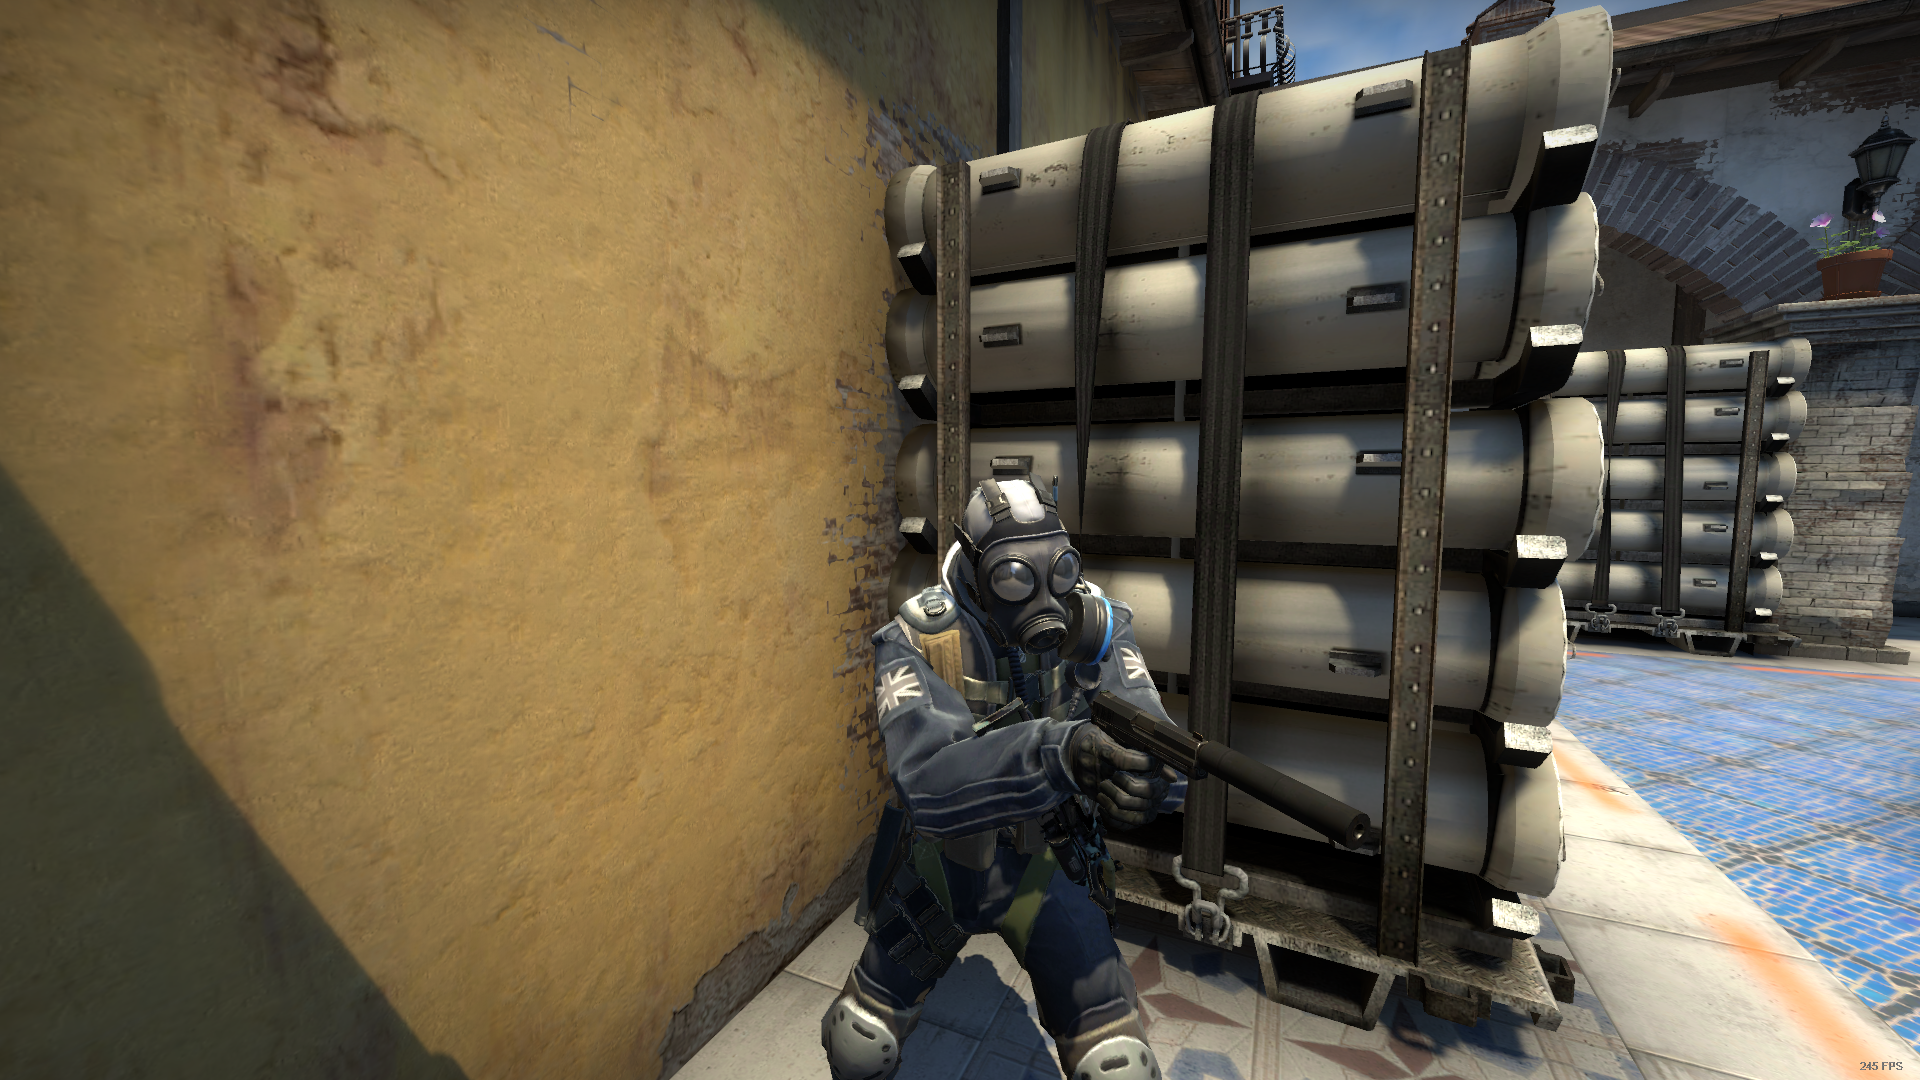ct: (822, 476, 1192, 1080)
